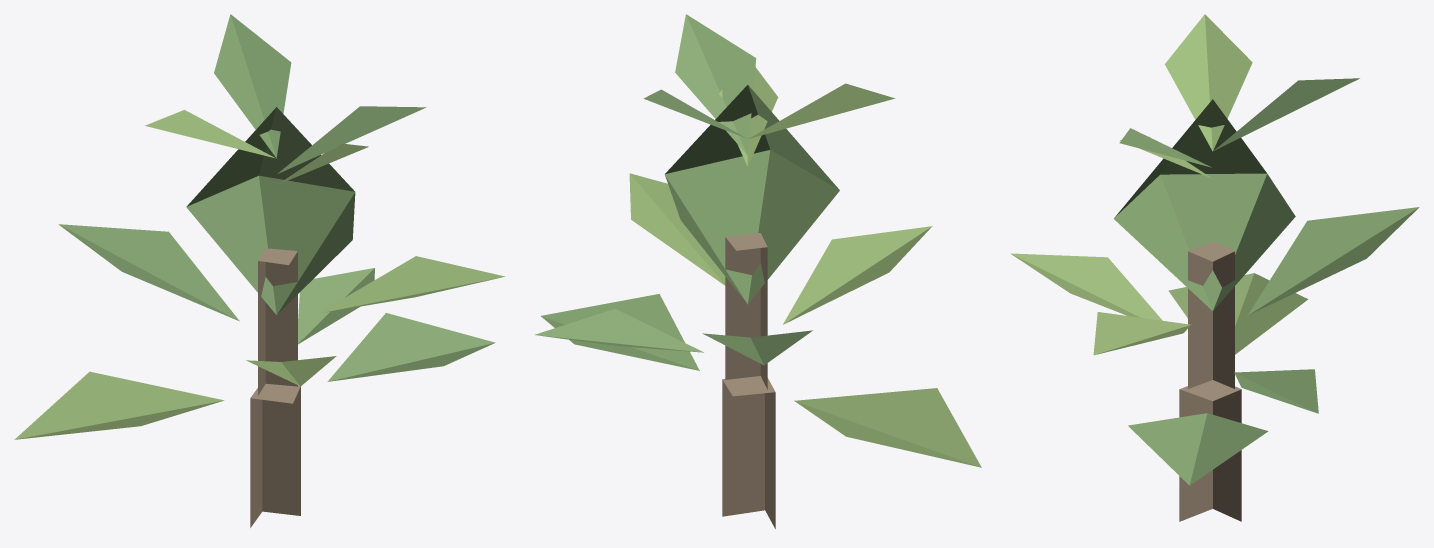
Rendered from shu.paotong@seedling__bloom.glb.
3 views of the same model, side by side, from view 1: azimuth 30°, elevation 25°; view 2: azimuth 150°, elevation 25°; view 3: azimuth 270°, elevation 25° (orthographic). The views are drawn at different scales.
Parts seen in each view (by area): view 1: shu.paotong@seedling__bloom; view 2: shu.paotong@seedling__bloom; view 3: shu.paotong@seedling__bloom.
Boxes of the visible parts, <box> form: shu.paotong@seedling__bloom: <box>14,14,504,527</box>; shu.paotong@seedling__bloom: <box>534,14,981,528</box>; shu.paotong@seedling__bloom: <box>1010,14,1419,521</box>.
Bounding box in the file's own units: 1.69 × 1.61 × 1.31.
